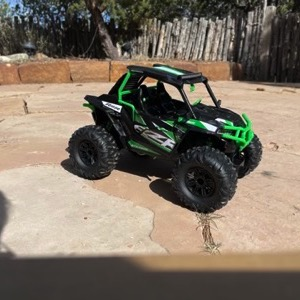polaris: (68, 63, 264, 213)
